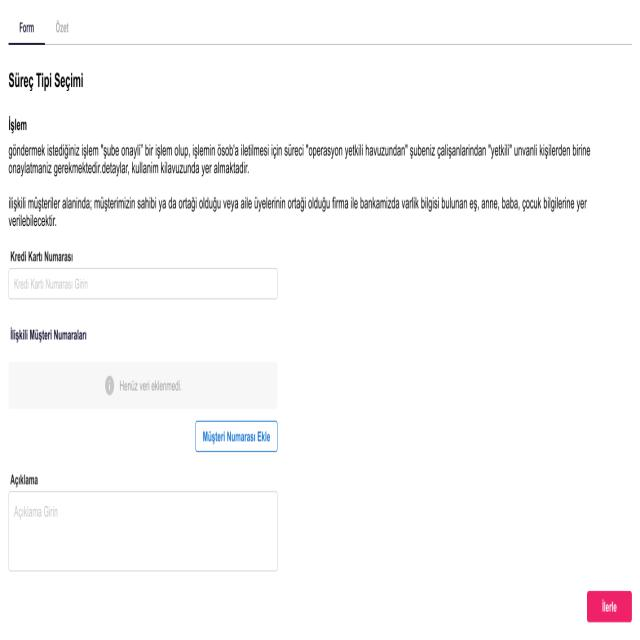QLabel: (8, 194, 588, 232), (8, 142, 592, 179), (8, 68, 84, 95), (10, 326, 87, 344), (10, 248, 74, 264), (119, 378, 182, 394), (202, 430, 271, 444), (9, 472, 38, 487), (7, 114, 28, 134), (18, 20, 34, 36), (600, 598, 617, 613), (55, 19, 69, 35)
VBtn: (194, 419, 278, 454), (586, 590, 632, 624)
VCard: (8, 361, 279, 410)
VIcon: (104, 374, 115, 397)
VTab: (8, 15, 47, 48), (51, 15, 80, 48)
VTabs: (6, 10, 635, 52)
VTextField: (8, 266, 278, 301)
VTextarea: (8, 490, 278, 573)
